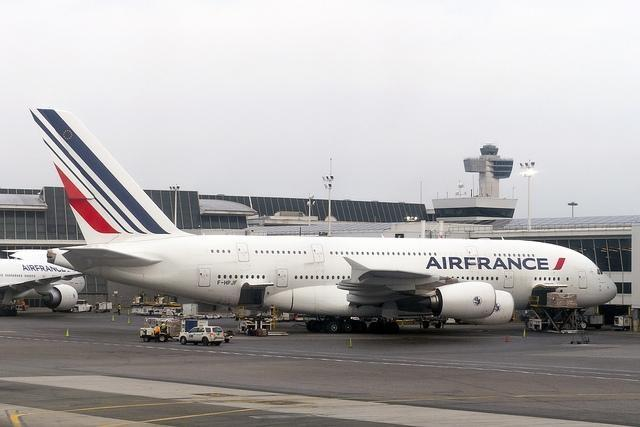car: (178, 325, 226, 347)
truck: (140, 318, 180, 344)
